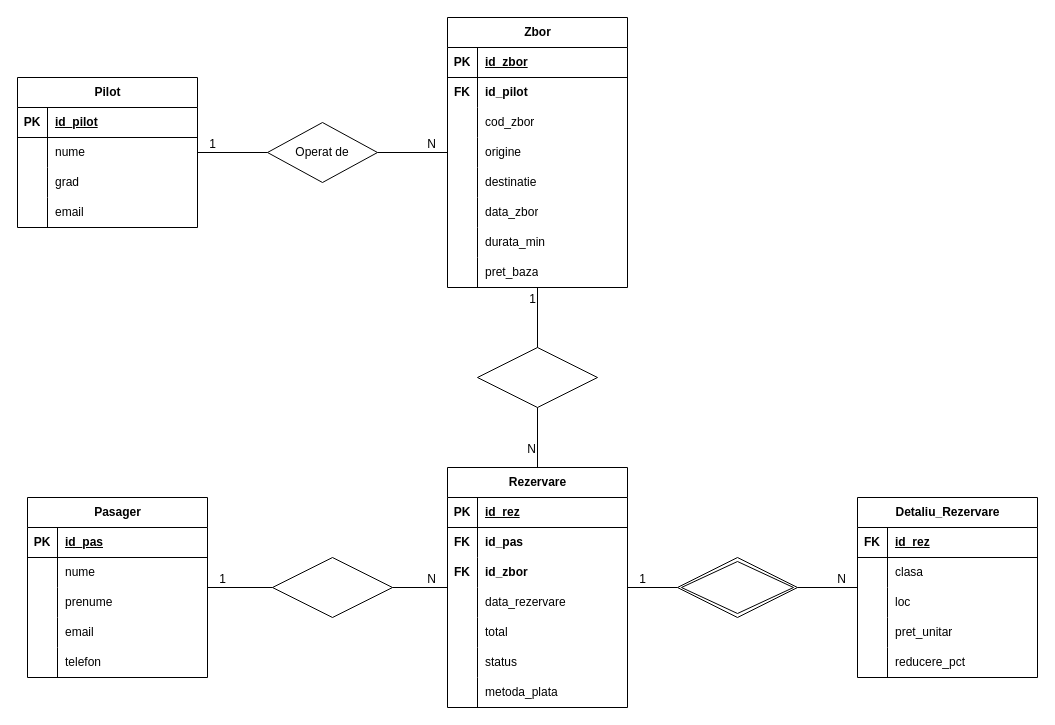
The diagram is 1055 pixels wide and 725 high, and some of its shapes have lost their labels. The centre of each missing label's shape, as x and y in pixels:
"Are" goes at [537,377].
"Contine" goes at [737,587].
"facuta de" goes at [332,587].
